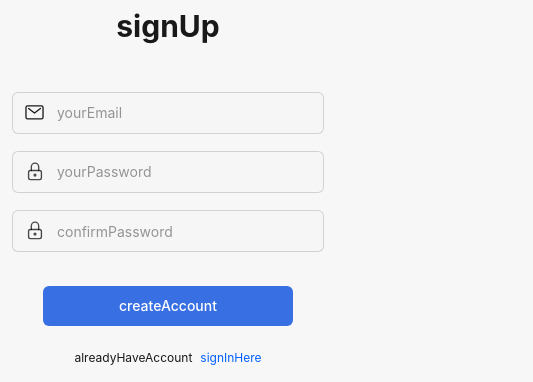
it: SignUpForm › shows error for too short password
Type "a@b.com" into the field with placeholder "yourEmail".
click(168, 113); type("a@b.com")  # box [12,92,324,134]
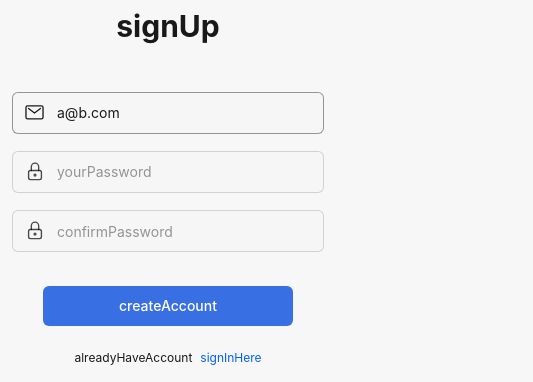
Type "short" into the password field with placeholder "yourPassword".
click(168, 172); type("short")  # box [12,151,324,193]
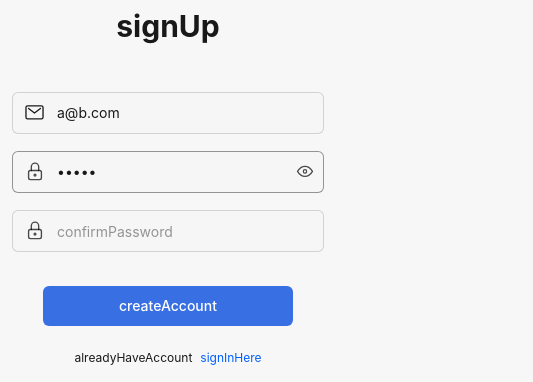
Type "short" into the password field with placeholder "confirmPassword".
click(168, 231); type("short")  # box [12,210,324,252]
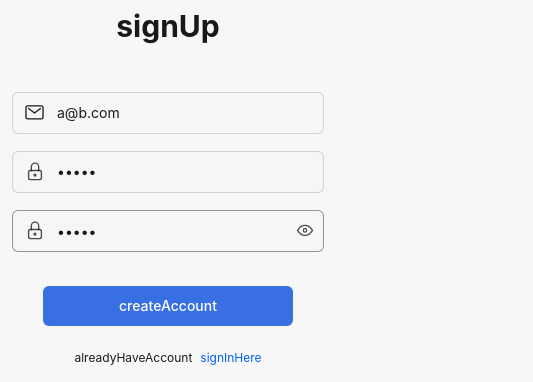
Click the button "createAccount".
click(168, 306)  # box [43,286,293,326]
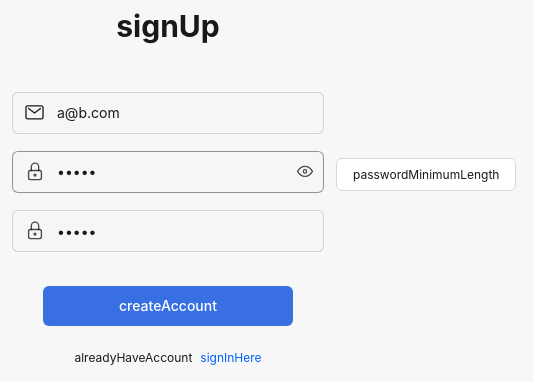
Now the text "passwordMinimumLength" is shown, box [336,158,516,191]
